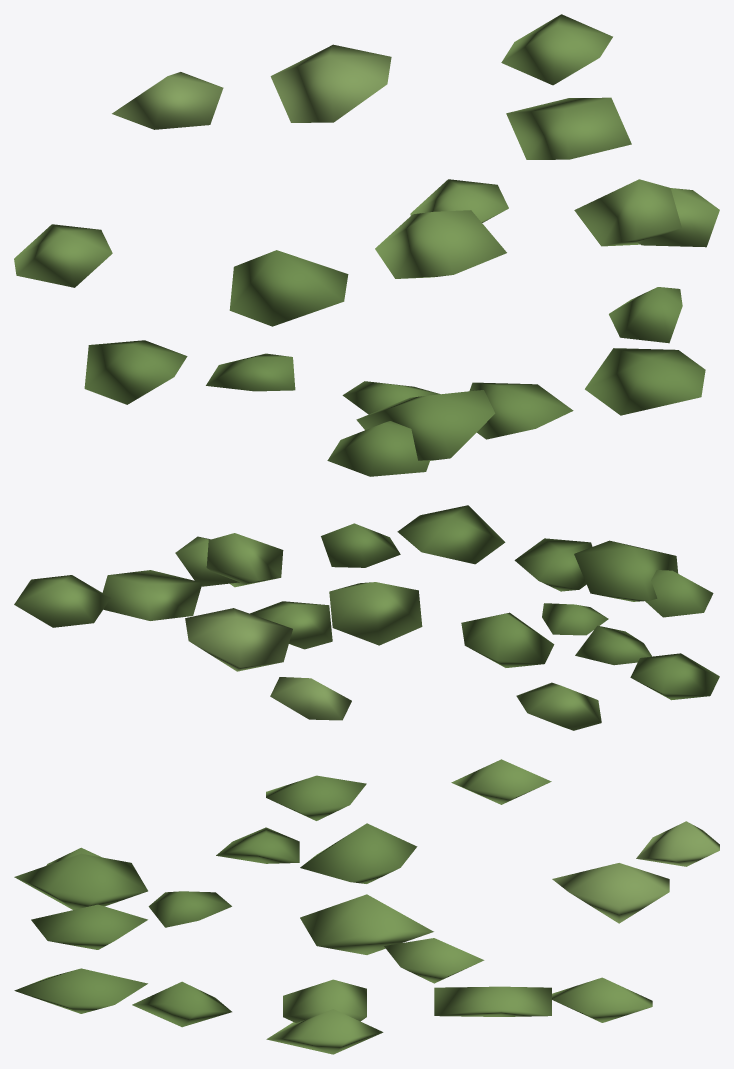
The model's file is canopy-2--1-3.glb.
3 views of the same model, one above another, from view 1: azimuth 30°, elevation 25°; view 2: azimuth 150°, elevation 25°; view 3: azimuth 270°, elevation 25° (orthographic). The views are drawn at different scales.
Size of the model in its own units: 108 by 22.5 by 105.
Materials: 1 (1 with a texture image).
